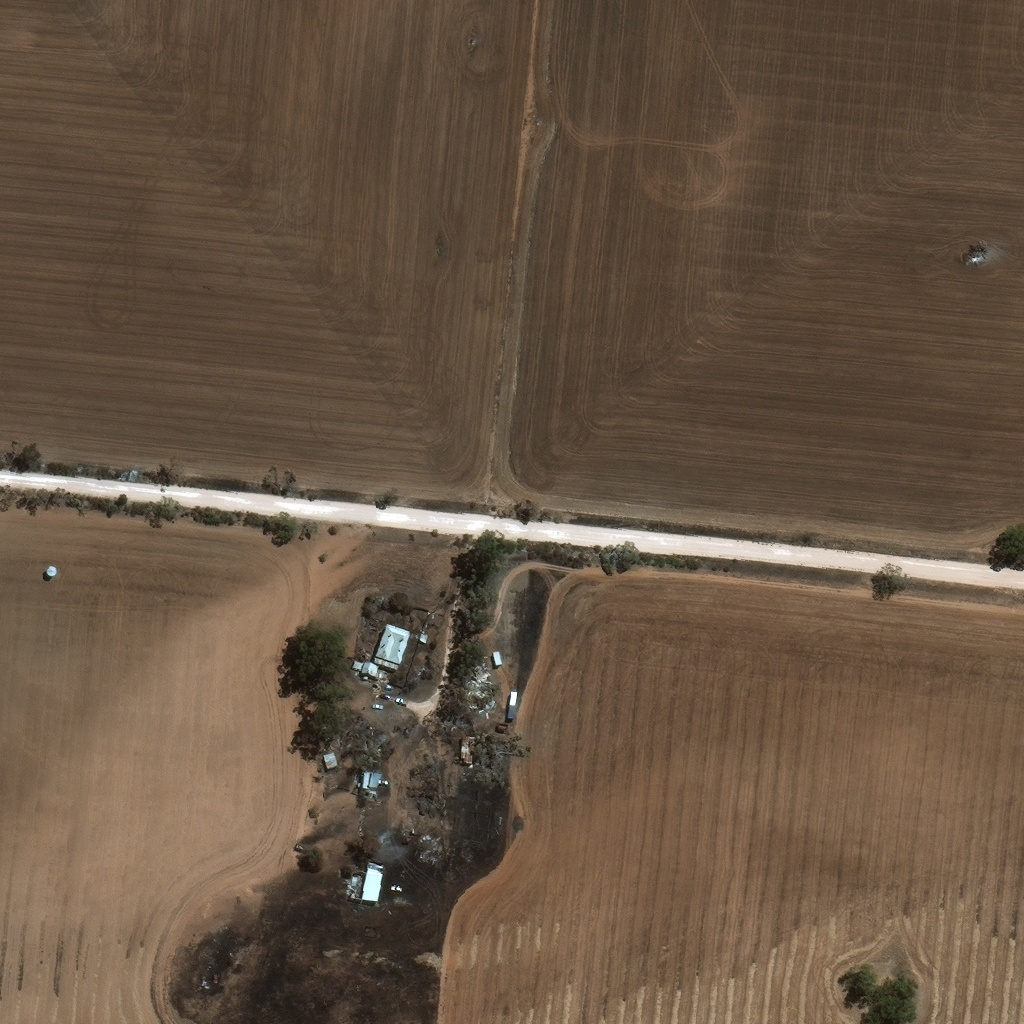0 no-damage: (373, 620, 412, 669), (363, 771, 382, 790), (362, 660, 380, 676), (324, 750, 339, 767), (419, 627, 431, 641), (354, 656, 365, 666)
1 minor-damage: (362, 857, 385, 902)
2 major-damage: (460, 734, 475, 762)
3 destroyed: (474, 665, 490, 706)
